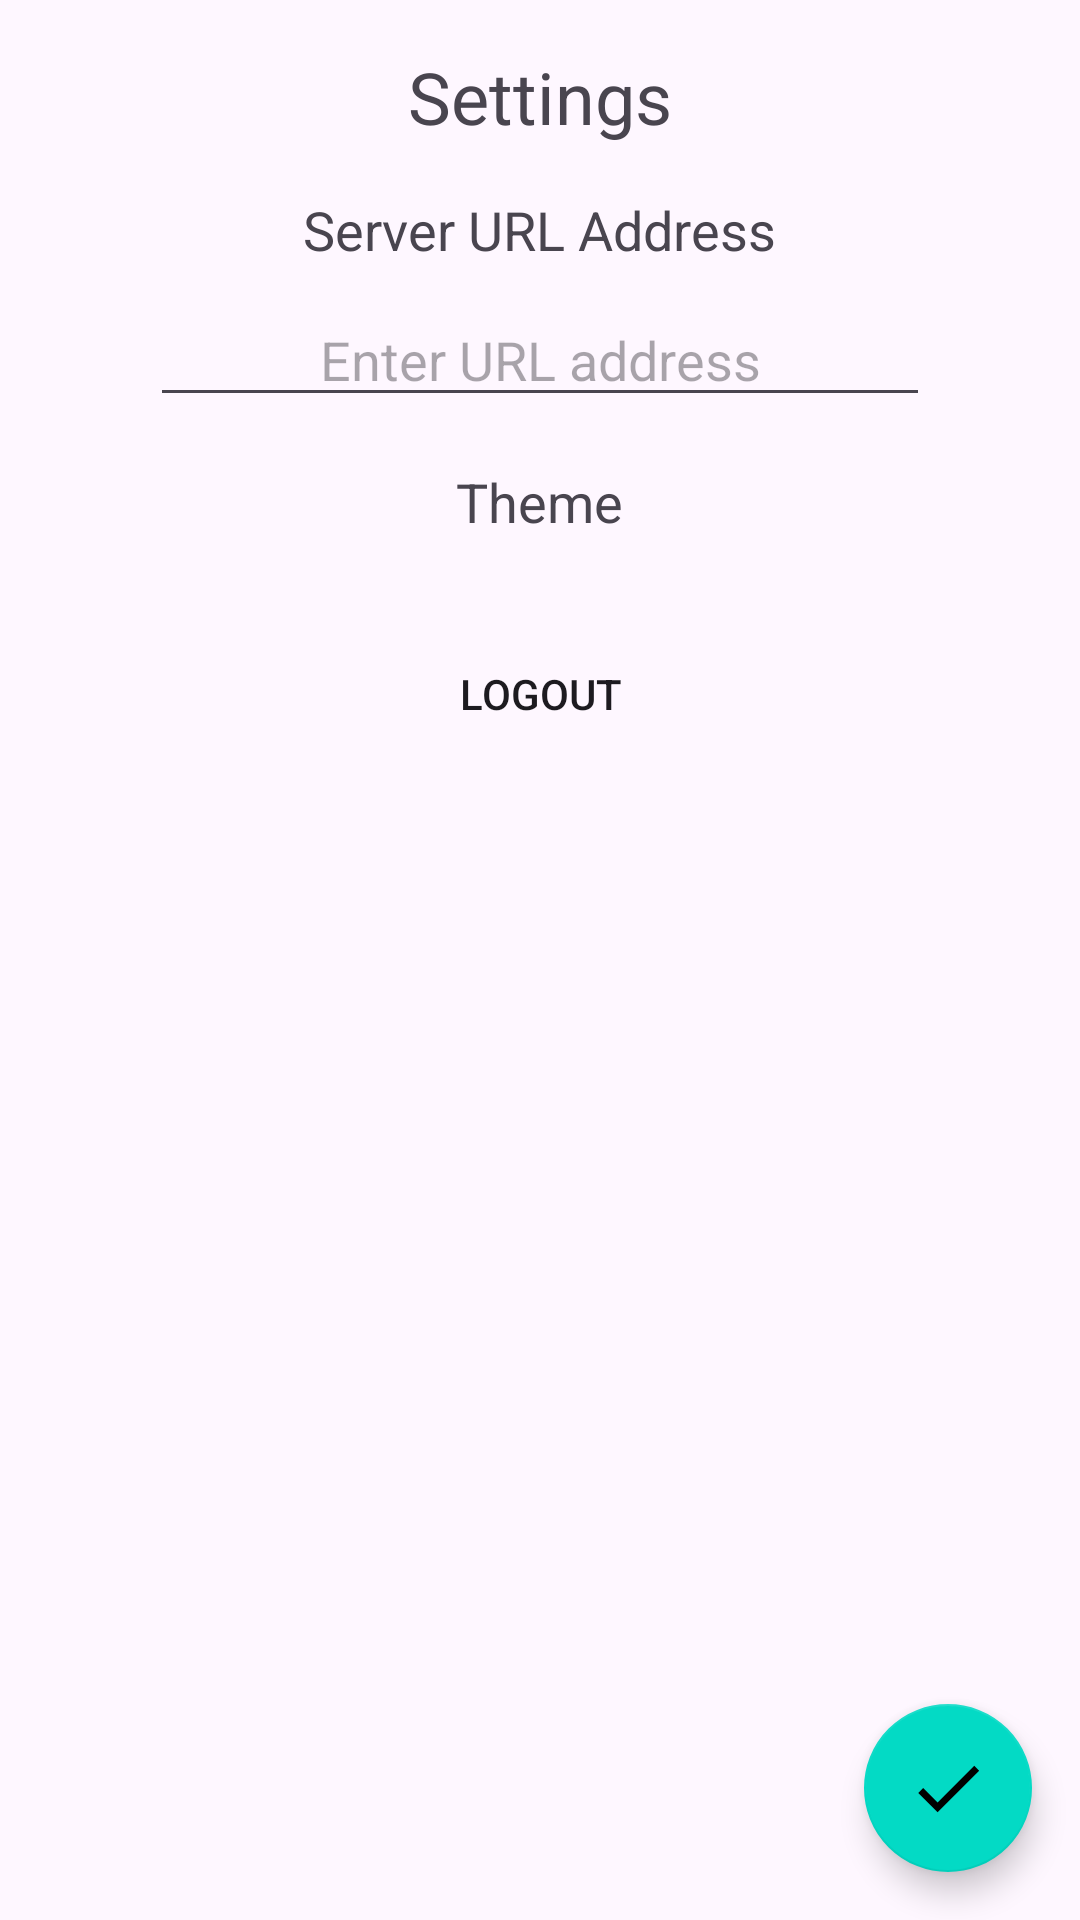

Screen size 1080 × 1920. Icon name, then its box in pixels as bbox=(x1, y1, x2, y2):
Submit and exit: bbox=(864, 1704, 1032, 1872)
